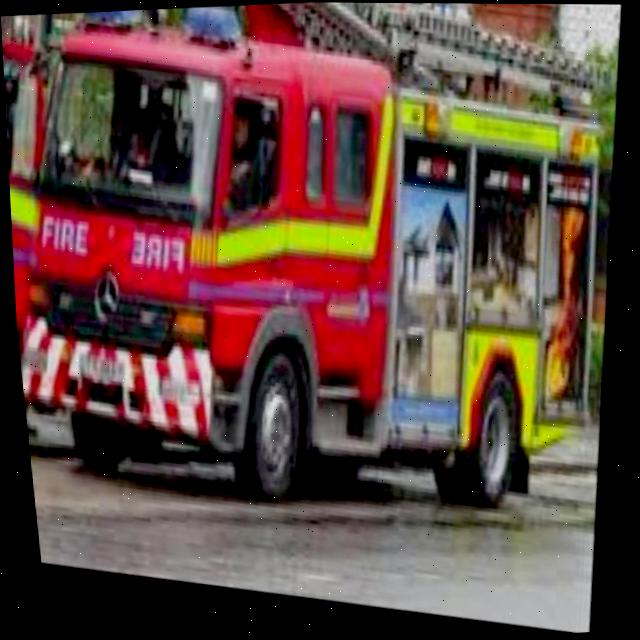emergency: (0, 0, 637, 532)
